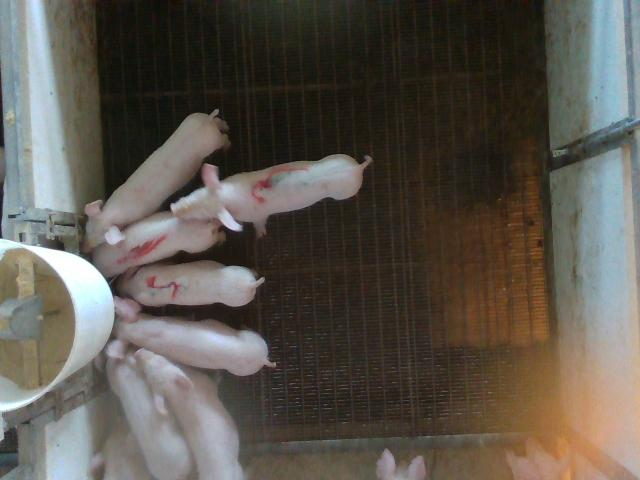pig-1: (92, 211, 225, 278)
pig-3: (171, 154, 371, 236)
pig-5: (116, 260, 265, 306)
